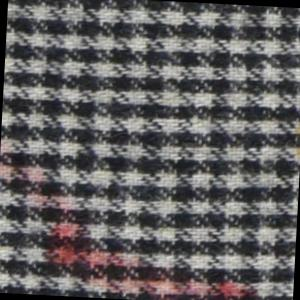Stain: (1, 139, 270, 300)
